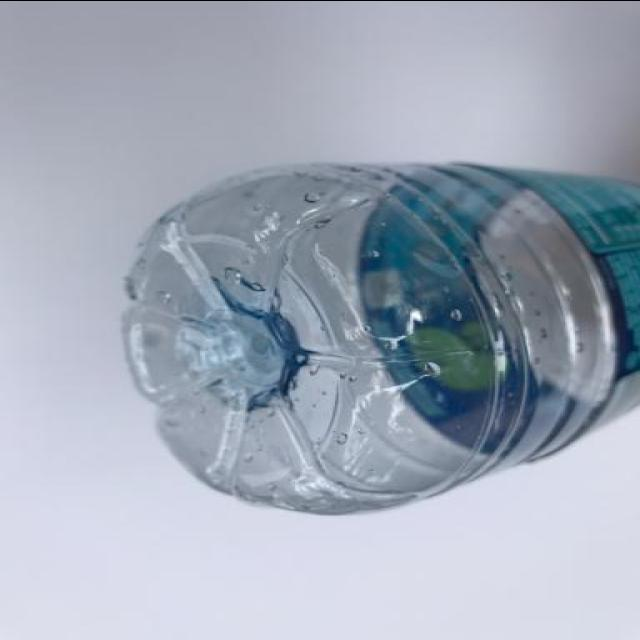litter: (116, 159, 638, 519)
